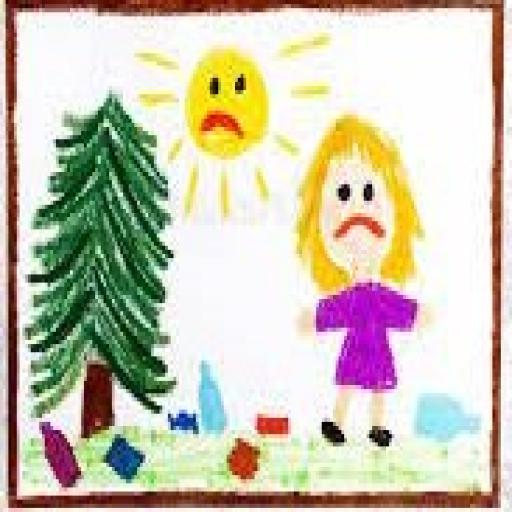person: (290, 109, 437, 456)
